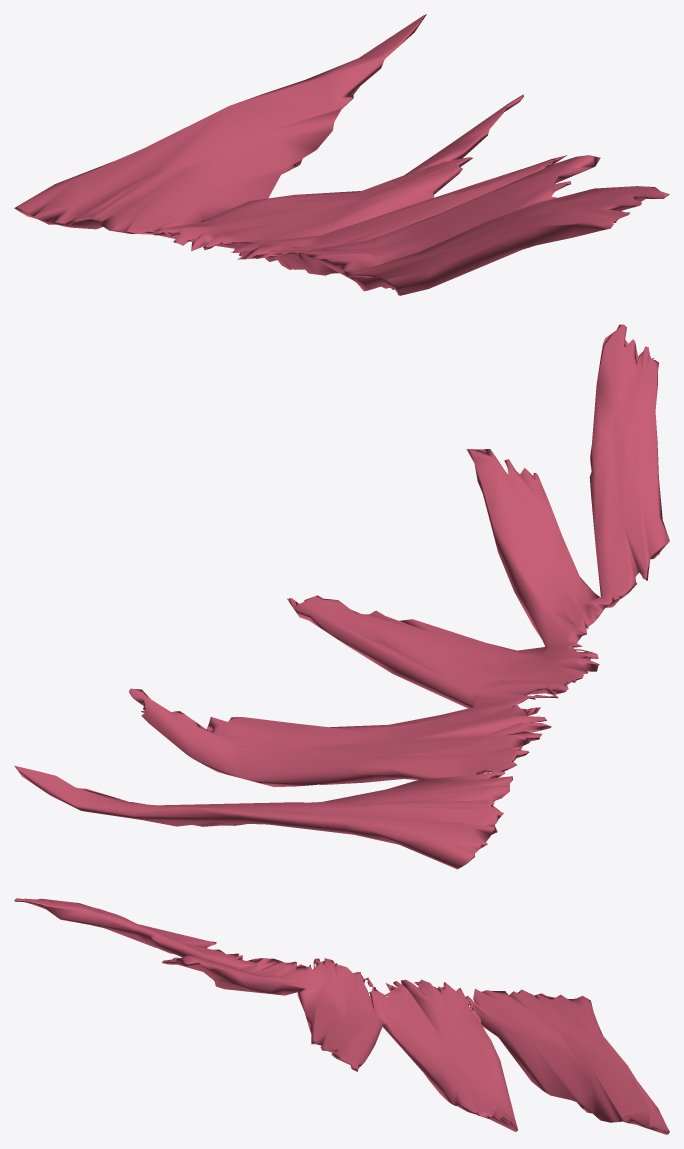
The picture shows the model from 3 angles, top to bottom: view 1: azimuth 30°, elevation 25°; view 2: azimuth 150°, elevation 25°; view 3: azimuth 270°, elevation 25°; orthographic projection. The views are drawn at different scales.
Visible parts, largest first — view 1: 左侧胸横肌; view 2: 左侧胸横肌; view 3: 左侧胸横肌.
Part boxes in pixels (left/top/right/bottom): 左侧胸横肌: left=14, top=14, right=669, bottom=295; 左侧胸横肌: left=14, top=324, right=669, bottom=869; 左侧胸横肌: left=14, top=898, right=669, bottom=1134.
Size of the model in its own units: 0.1259 by 0.0744 by 0.2196.
